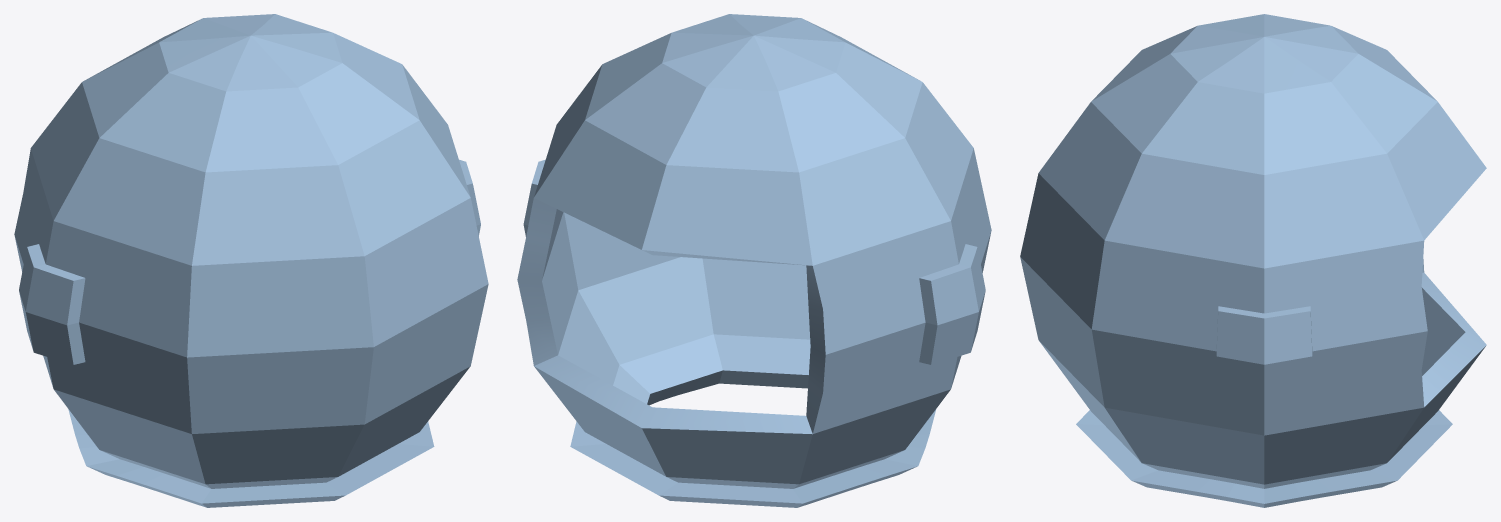
File: helmet.gltf
The picture shows the model from 3 angles, left to right: view 1: azimuth 30°, elevation 25°; view 2: azimuth 150°, elevation 25°; view 3: azimuth 270°, elevation 25°; orthographic projection.
Visible parts, largest first — view 1: helmet.001; view 2: helmet.001; view 3: helmet.001.
Boxes of the visible parts, x1,y1,x2,y2 form: helmet.001: (14, 14, 488, 507); helmet.001: (517, 14, 991, 507); helmet.001: (1020, 14, 1486, 507).
Size of the model in its own units: 1.06 by 0.9142 by 0.9647.
